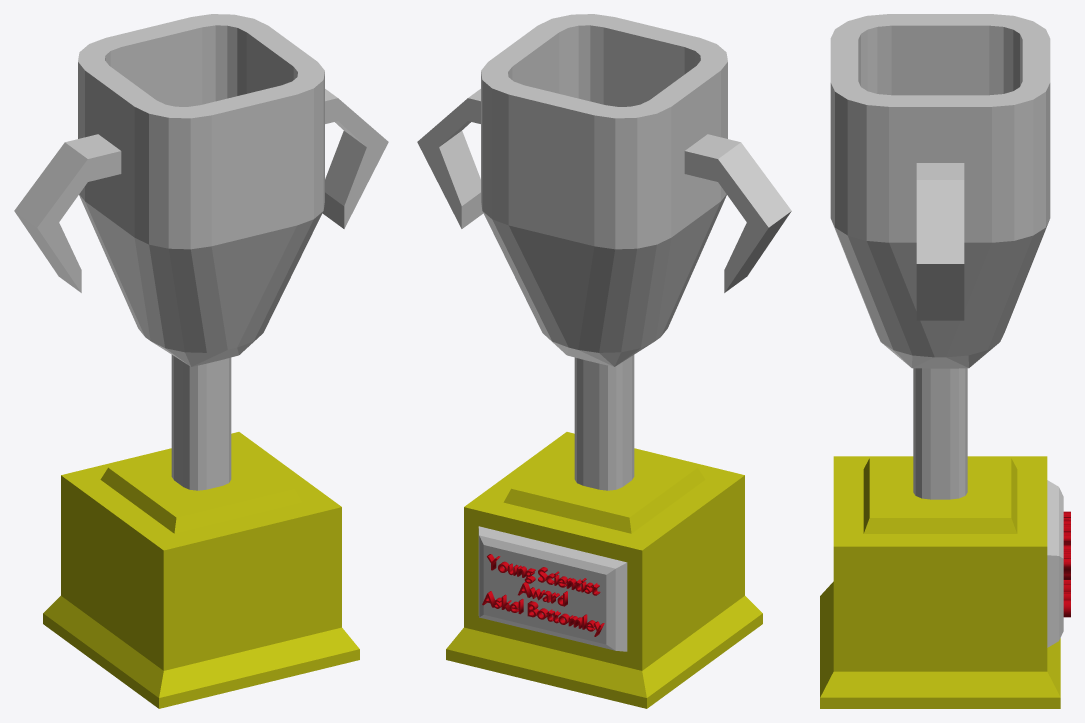
Rendered from TROPHY.fbx.
The picture shows the model from 3 angles, left to right: view 1: azimuth 30°, elevation 25°; view 2: azimuth 150°, elevation 25°; view 3: azimuth 270°, elevation 25°; orthographic projection. The views are drawn at different scales.
Parts seen in each view (by area): view 1: Cube (×2); view 2: Cube (×2), Text; view 3: Cube (×2), Text.
Part boxes in pixels (left/top/right/bottom): Cube (×2): left=14, top=14, right=388, bottom=708; Cube (×2): left=417, top=14, right=791, bottom=708; Text: left=482, top=554, right=604, bottom=636; Cube (×2): left=820, top=14, right=1063, bottom=708; Text: left=1063, top=511, right=1070, bottom=617.
Bounding box in the file's own units: 169 × 264 × 100.
